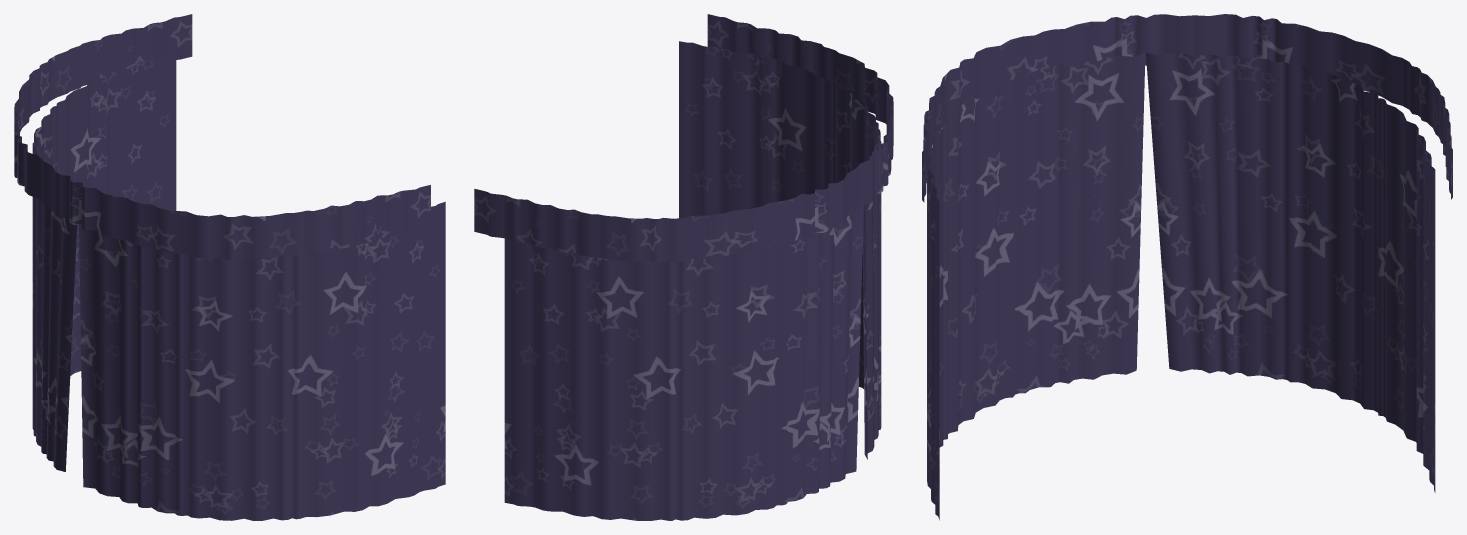
The model's file is ENV_MOD_Pirate_Stage_Screen_Right.mo.fbx.
3 views of the same model, side by side, from view 1: azimuth 30°, elevation 25°; view 2: azimuth 150°, elevation 25°; view 3: azimuth 270°, elevation 25° (orthographic). The views are drawn at different scales.
Parts seen in each view (by area): view 1: ENV_MOD_Pirate_Stage_Screen_Right.mo; view 2: ENV_MOD_Pirate_Stage_Screen_Right.mo; view 3: ENV_MOD_Pirate_Stage_Screen_Right.mo.
Part boxes in pixels (bbox=[...]): ENV_MOD_Pirate_Stage_Screen_Right.mo: bbox=[14, 14, 445, 520]; ENV_MOD_Pirate_Stage_Screen_Right.mo: bbox=[474, 14, 893, 520]; ENV_MOD_Pirate_Stage_Screen_Right.mo: bbox=[922, 14, 1452, 520].
Size of the model in its own units: 254 by 260 by 359.
